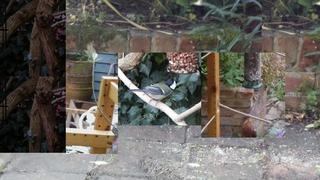great tit: (127, 77, 177, 106)
